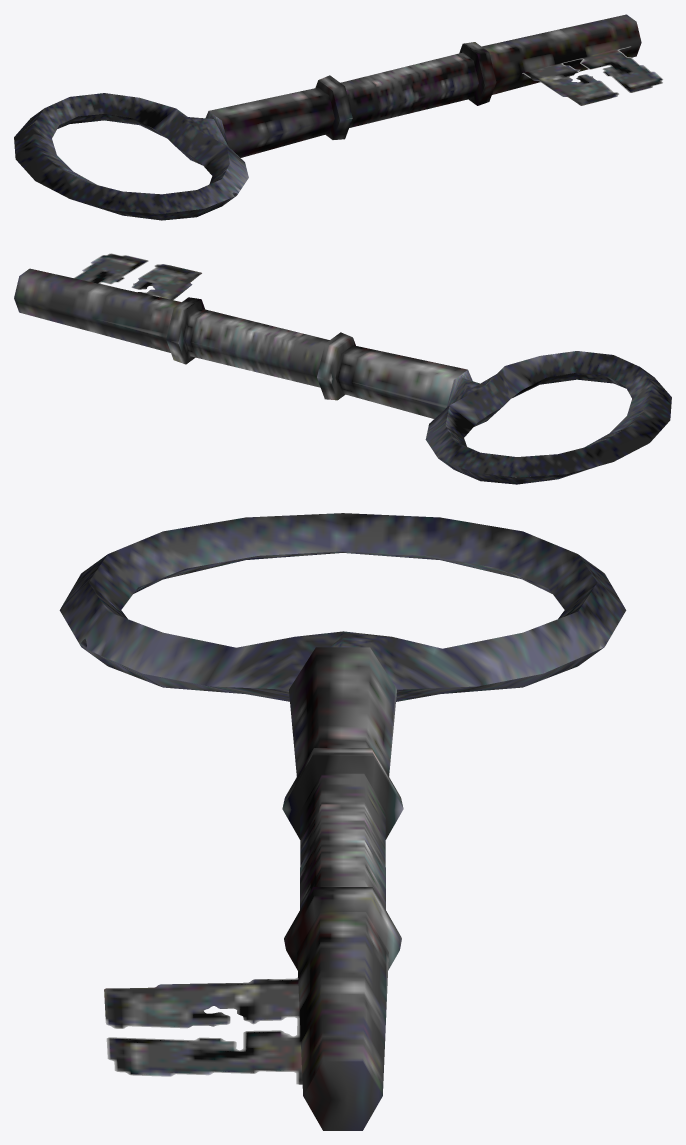
Rendered from Key.fbx.
3 renders of one model, top to bottom at view 1: azimuth 30°, elevation 25°; view 2: azimuth 150°, elevation 25°; view 3: azimuth 270°, elevation 25°, orthographic. The views are drawn at different scales.
Visible parts, largest first — view 1: Circle; view 2: Circle; view 3: Circle.
Part boxes in pixels (box(x1,y1,x2,y2)): Circle: box(14, 14, 663, 220); Circle: box(14, 253, 671, 484); Circle: box(59, 513, 626, 1130).
Bounding box in the file's own units: 5.79 × 0.4872 × 2.36.
